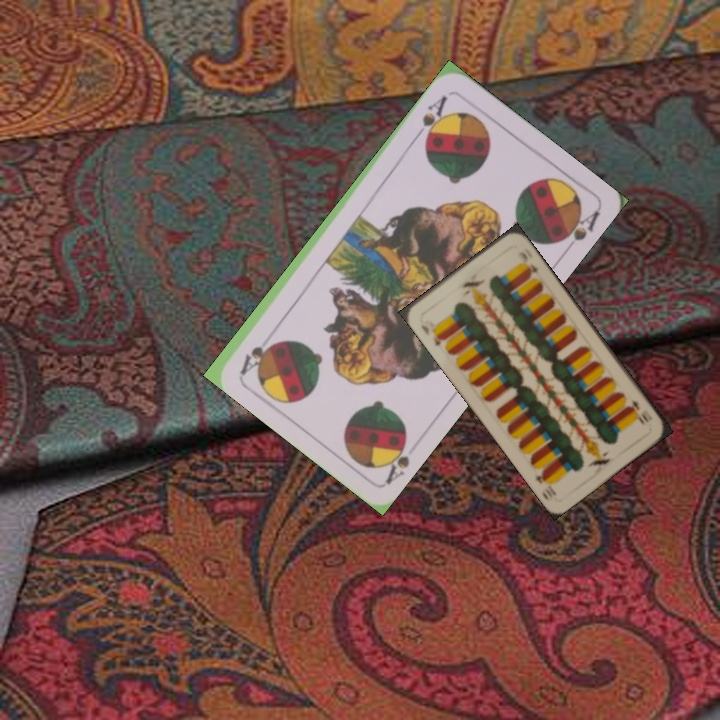E10: (417, 320, 447, 349), (625, 395, 652, 427)
SA: (411, 91, 450, 146), (376, 430, 413, 487)
